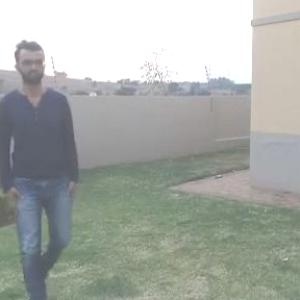follow: (12, 34, 90, 299)
